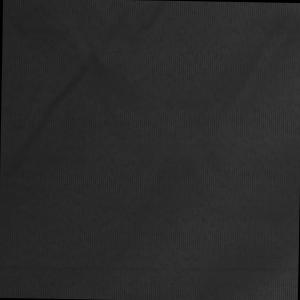Wrinkle: (1, 1, 173, 191), (207, 2, 300, 134)
